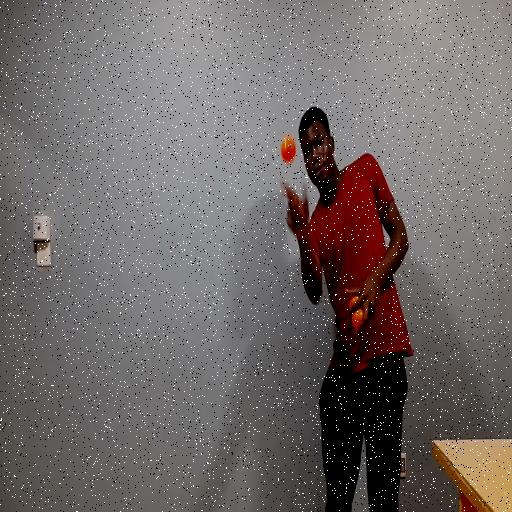plastic-ball: (277, 129, 299, 170)
